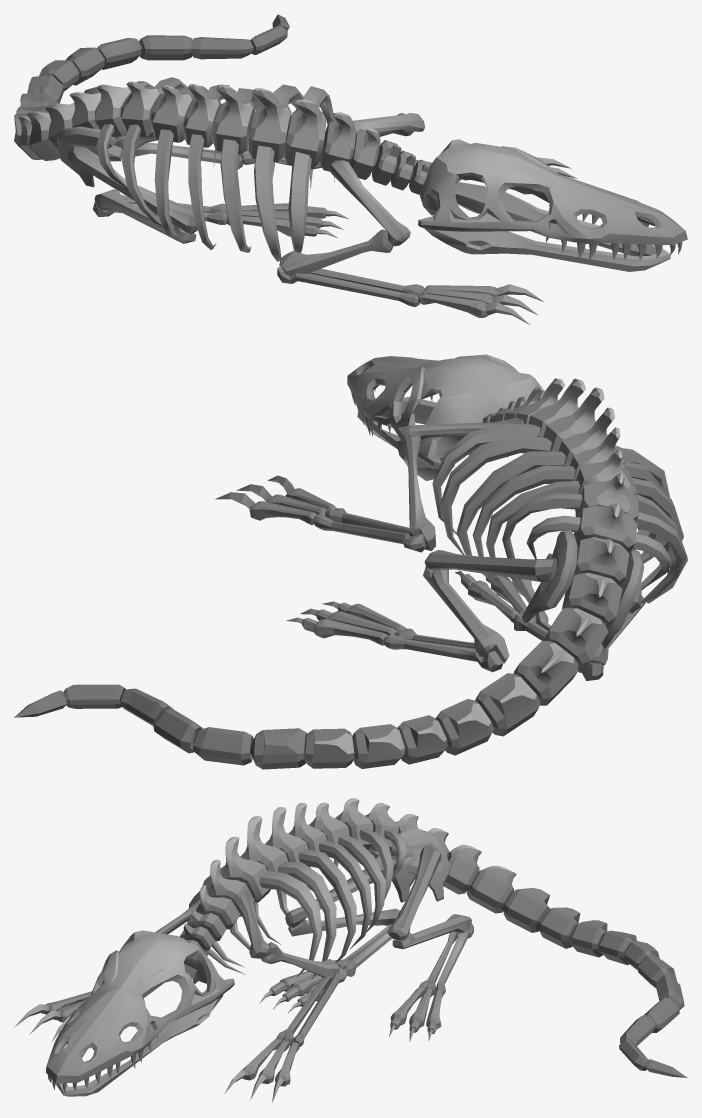
The model's file is SM_Props_Alien_01.fbx.
The picture shows the model from 3 angles, top to bottom: view 1: azimuth 30°, elevation 25°; view 2: azimuth 150°, elevation 25°; view 3: azimuth 270°, elevation 25°; orthographic projection. The views are drawn at different scales.
Visible parts, largest first — view 1: SM_Props_Alien_01_LOD0; view 2: SM_Props_Alien_01_LOD0; view 3: SM_Props_Alien_01_LOD0.
Boxes of the visible parts, x1=… form: SM_Props_Alien_01_LOD0: x1=14, y1=14, x2=687, y2=324; SM_Props_Alien_01_LOD0: x1=14, y1=354, x2=687, y2=769; SM_Props_Alien_01_LOD0: x1=14, y1=798, x2=687, y2=1102.
Bounding box in the file's own units: 102 × 38.41 × 153.
